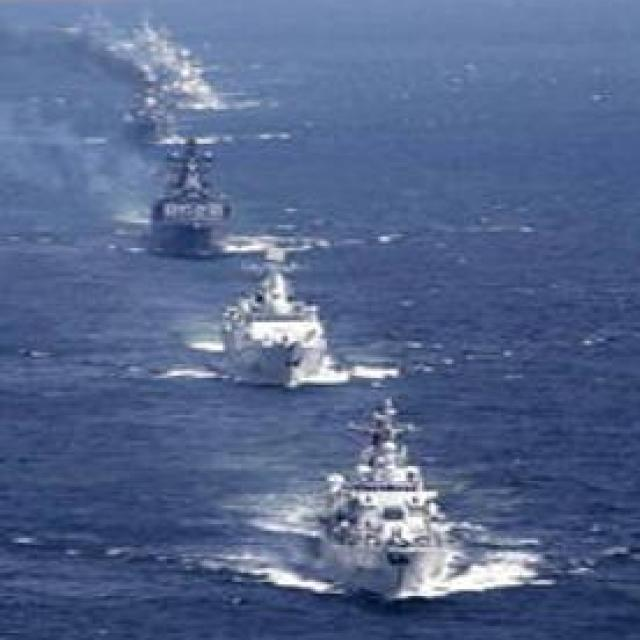navalvessels: (279, 385, 474, 627), (212, 240, 334, 377), (147, 136, 222, 247), (130, 78, 178, 145)
